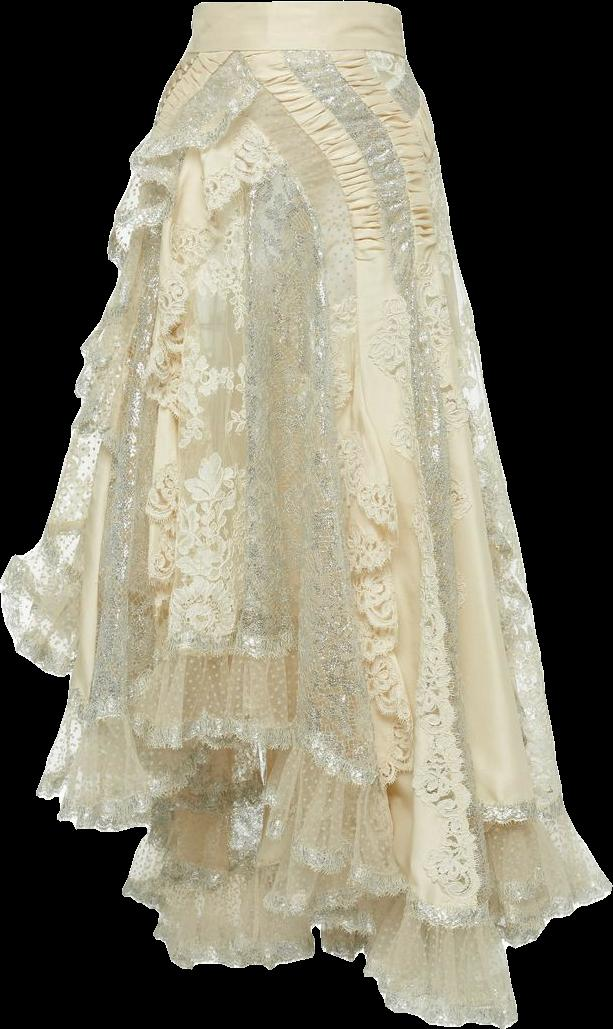Hemline: (0, 553, 612, 1028)
Waistline: (178, 43, 407, 66), (187, 0, 409, 16)
